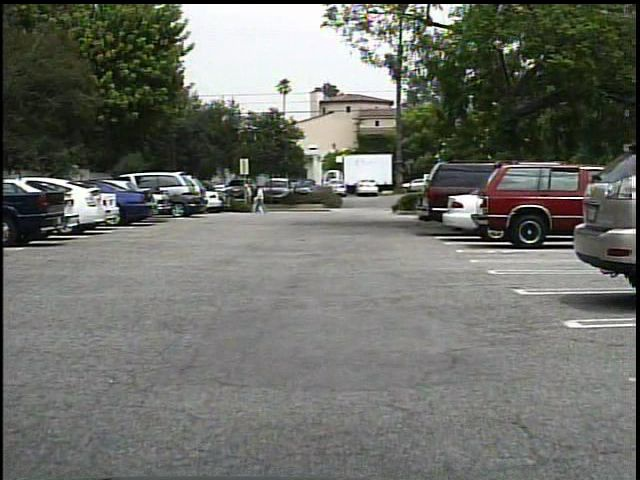person: (240, 181, 257, 214), (255, 183, 269, 216), (256, 185, 257, 215)
